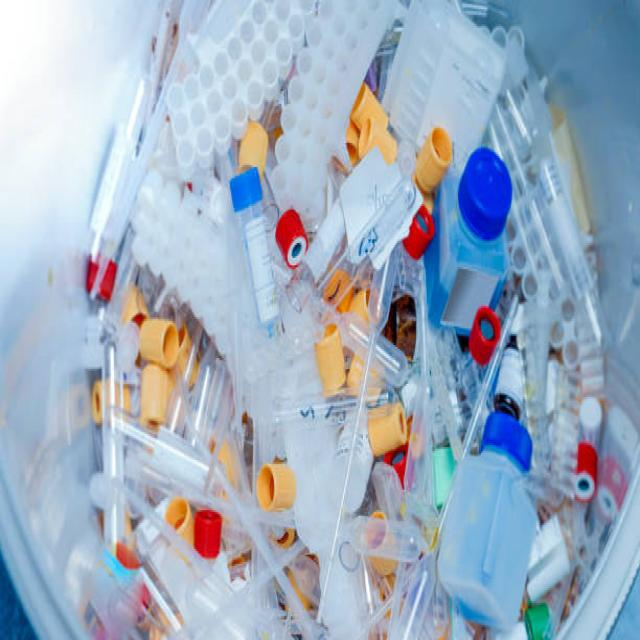plastic: (84, 2, 571, 601)
